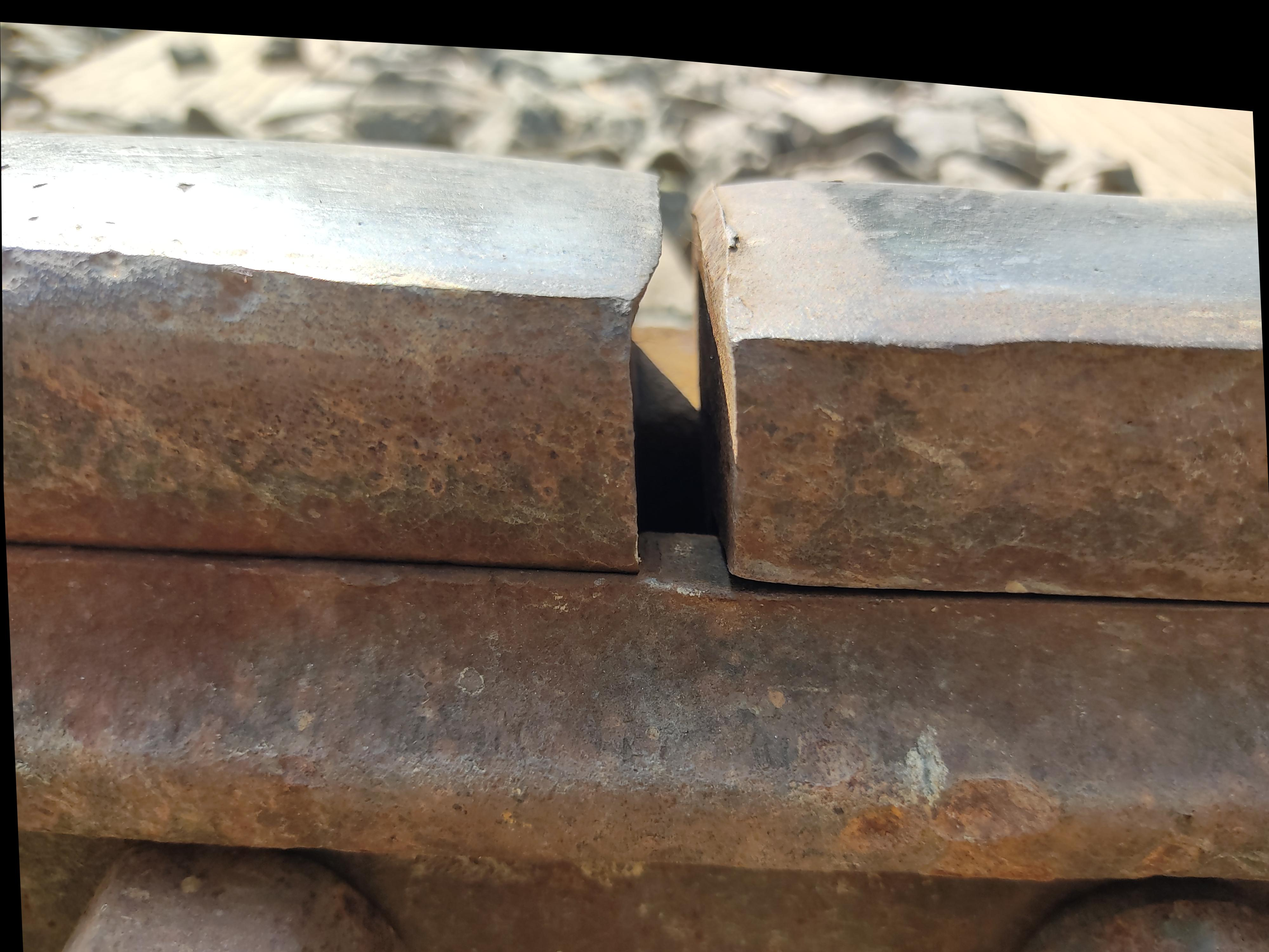person: (393, 55, 926, 654)
